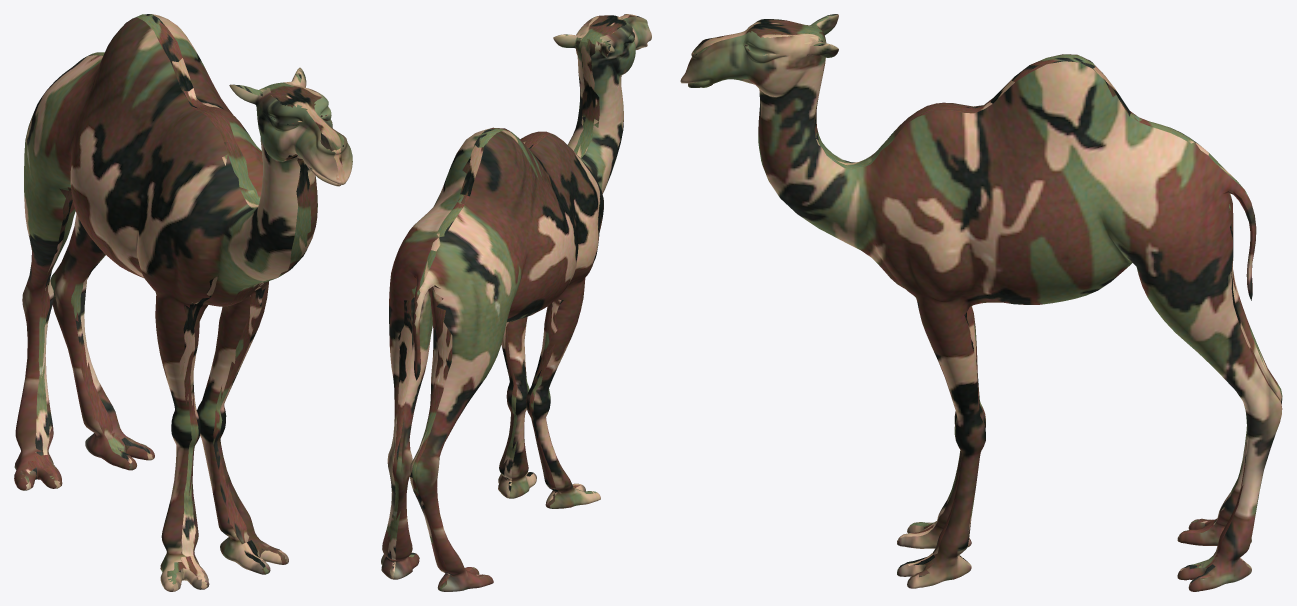
The model's file is camel.fbx.
3 views of the same model, side by side, from view 1: azimuth 30°, elevation 25°; view 2: azimuth 150°, elevation 25°; view 3: azimuth 270°, elevation 25° (orthographic). The views are drawn at different scales.
Visible parts, largest first — view 1: convexApproximation; view 2: convexApproximation; view 3: convexApproximation.
Part boxes in pixels (box(x1,y1,x2,y2)): convexApproximation: box(14, 14, 352, 591); convexApproximation: box(381, 14, 651, 591); convexApproximation: box(680, 14, 1282, 591).
Bounding box in the file's own units: 87.36 × 286 × 280.
Materials: 1 (1 with a texture image).
